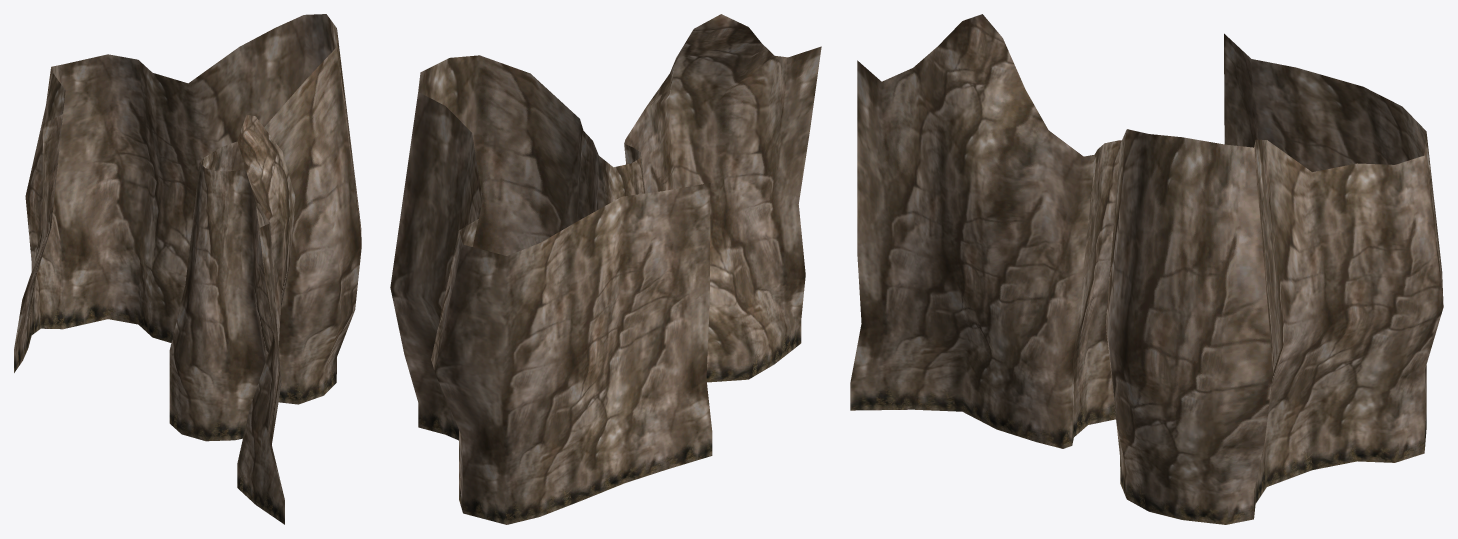
The model's file is OVERHILL_A_01_LINE56.fbx.
3 renders of one model, left to right at view 1: azimuth 30°, elevation 25°; view 2: azimuth 150°, elevation 25°; view 3: azimuth 270°, elevation 25°, orthographic. The views are drawn at different scales.
Parts seen in each view (by area): view 1: OVERHILL_A_01_LINE56; view 2: OVERHILL_A_01_LINE56; view 3: OVERHILL_A_01_LINE56.
Part boxes in pixels (left/top/right/bottom): OVERHILL_A_01_LINE56: left=14, top=14, right=361, bottom=524; OVERHILL_A_01_LINE56: left=390, top=14, right=821, bottom=524; OVERHILL_A_01_LINE56: left=850, top=14, right=1443, bottom=524.
Size of the model in its own units: 97525 by 106242 by 140087.
2 materials, 2 textured.
